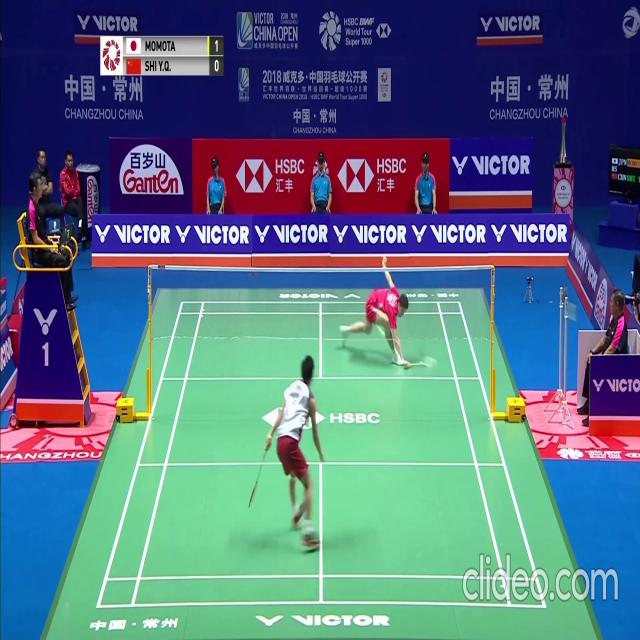Shuttlecock: (376, 326, 381, 334)
